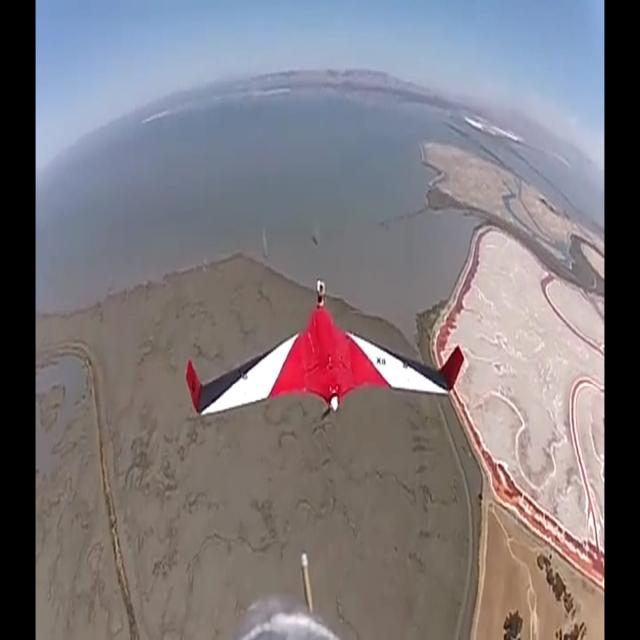iha: (184, 278, 466, 434)
